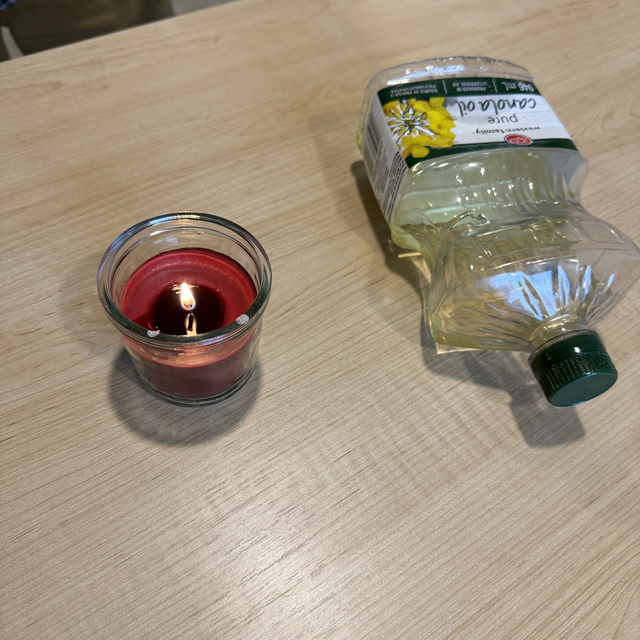Aerosol: (362, 57, 640, 416)
Candle: (95, 212, 275, 406)
